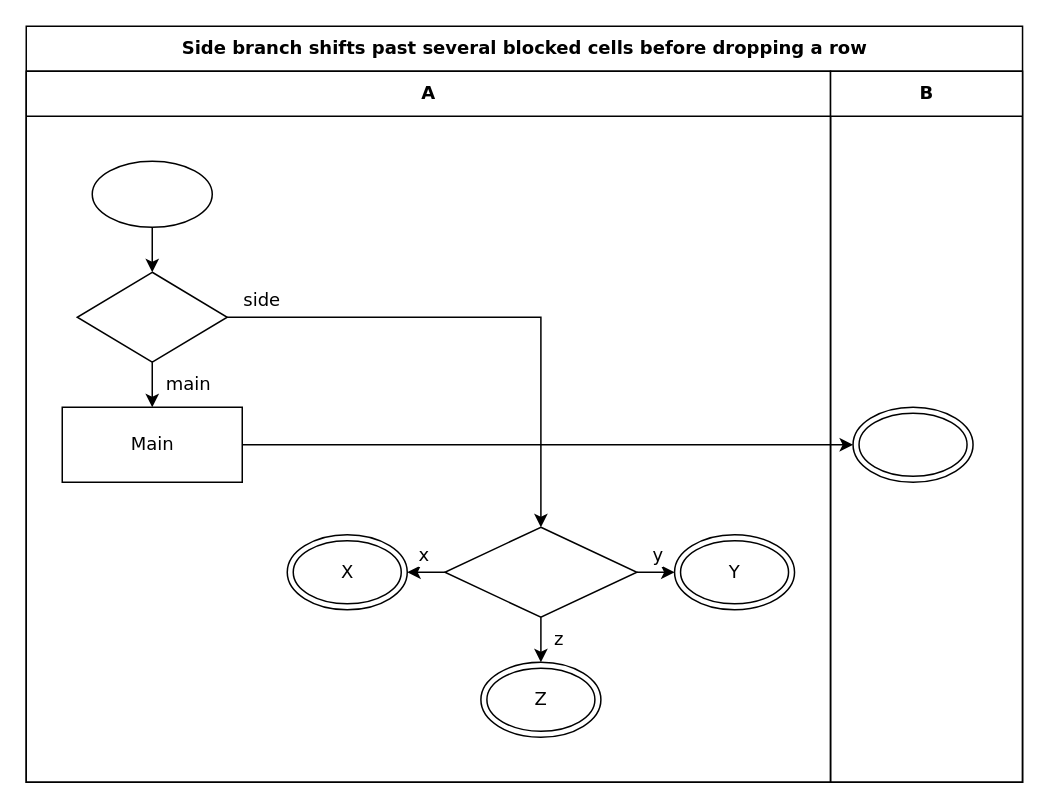
The diagram is 1050 pixels wide and 809 high, and some of its shapes have lost their labels. Each missing label, with the box of its shape:
Enter: (91, 160, 212, 227)
Fork?: (76, 271, 227, 362)
Three-way?: (443, 526, 637, 617)
To B: (852, 406, 973, 482)
